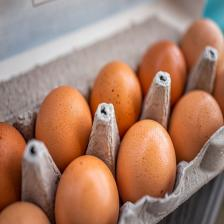egg: (116, 119, 177, 220), (35, 85, 93, 187), (54, 154, 120, 224)
